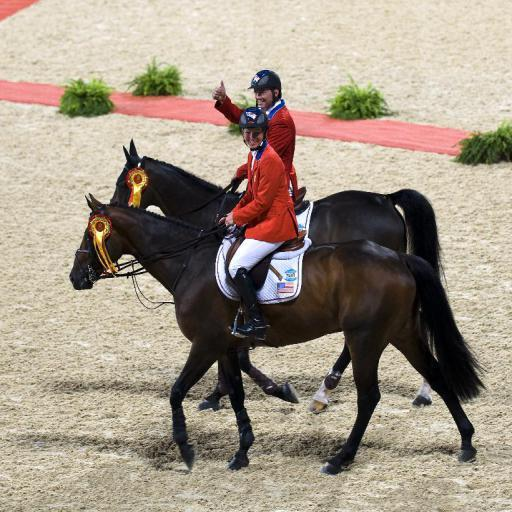horse: (66, 192, 490, 476), (108, 136, 451, 416)
